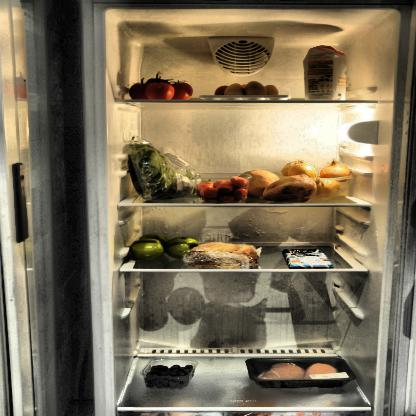apple: (129, 232, 201, 264)
blueberries: (144, 360, 194, 389)
chicken: (252, 359, 343, 385)
eggs: (214, 80, 279, 102)
milk: (282, 247, 334, 270)
onion: (281, 161, 352, 200)
spinach: (119, 136, 182, 204)
strawberries: (194, 174, 250, 203)
sweet_potato: (242, 170, 318, 204)
tomato: (127, 75, 195, 102)
